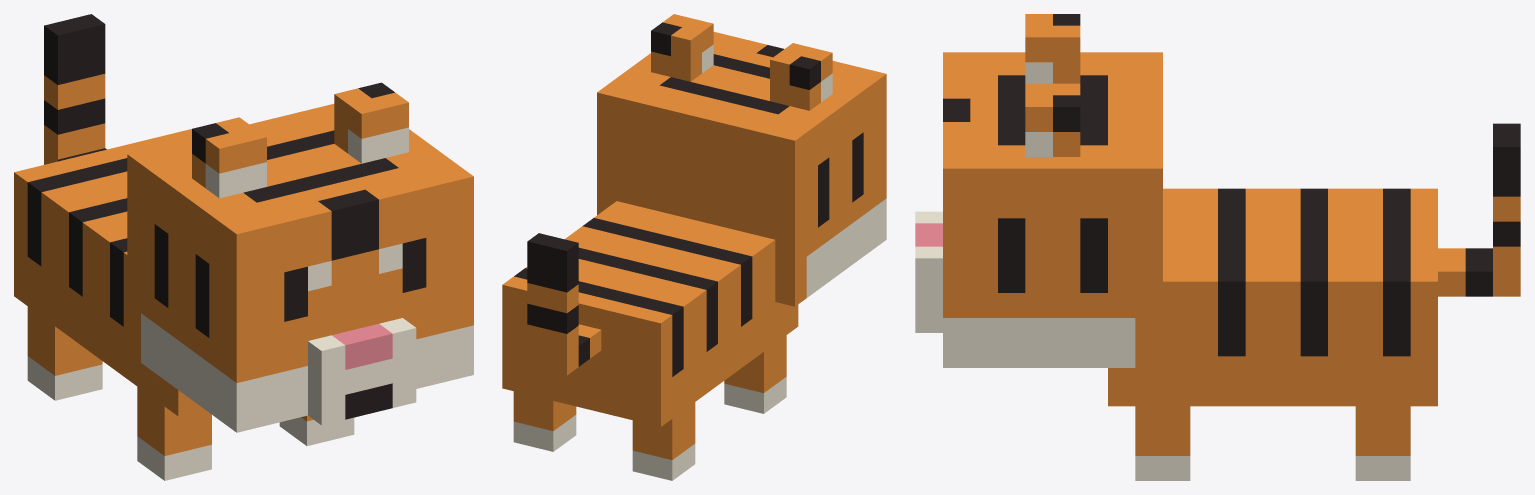
The model's file is Tiger.obj.
The picture shows the model from 3 angles, left to right: view 1: azimuth 30°, elevation 25°; view 2: azimuth 150°, elevation 25°; view 3: azimuth 270°, elevation 25°; orthographic projection. The views are drawn at different scales.
Visible parts, largest first — view 1: Tiger; view 2: Tiger; view 3: Tiger.
Boxes of the visible parts, x1,y1,x2,y2 form: Tiger: (14,14,473,480); Tiger: (502,14,886,480); Tiger: (915,14,1520,480).
Size of the model in its own units: 0.55 by 0.825 by 1.21.
